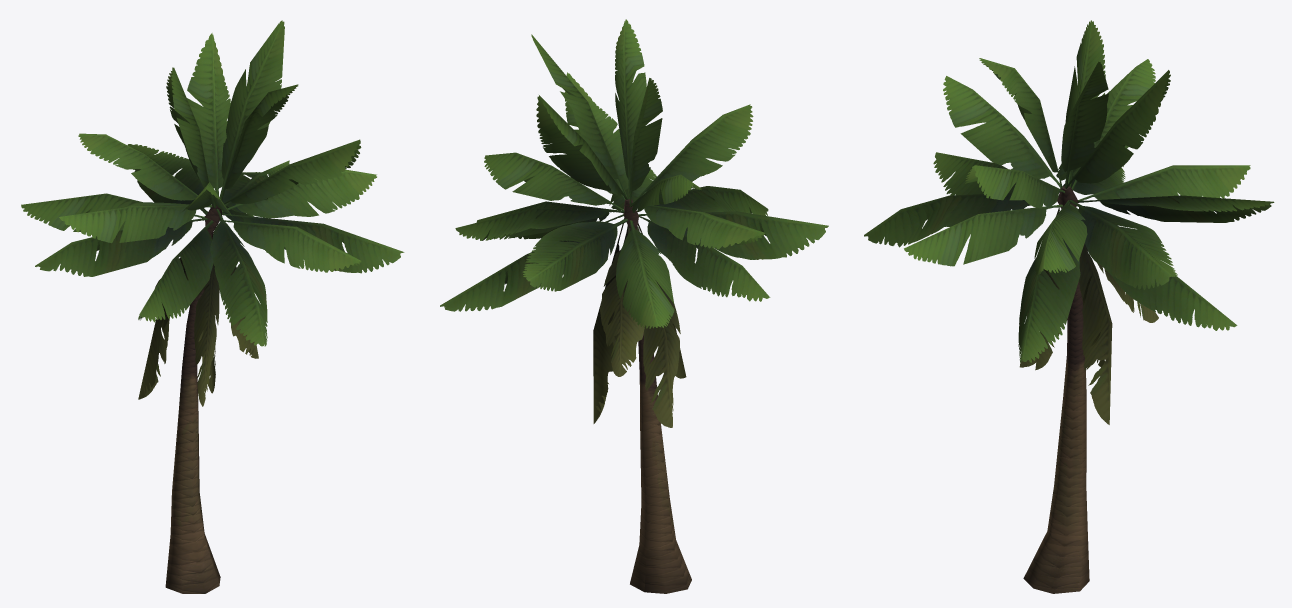
File: palmtree_01.fbx
3 renders of one model, left to right at view 1: azimuth 30°, elevation 25°; view 2: azimuth 150°, elevation 25°; view 3: azimuth 270°, elevation 25°, orthographic. The views are drawn at different scales.
Visible parts, largest first — view 1: GEOM0_LOD0; view 2: GEOM0_LOD0; view 3: GEOM0_LOD0.
Part boxes in pixels (left/top/right/bottom): GEOM0_LOD0: left=21, top=20, right=404, bottom=593; GEOM0_LOD0: left=440, top=19, right=828, bottom=593; GEOM0_LOD0: left=864, top=20, right=1274, bottom=593.
Size of what is drawn, in the model's own units: 1049 by 1582 by 1026.
2 materials, 2 textured.
